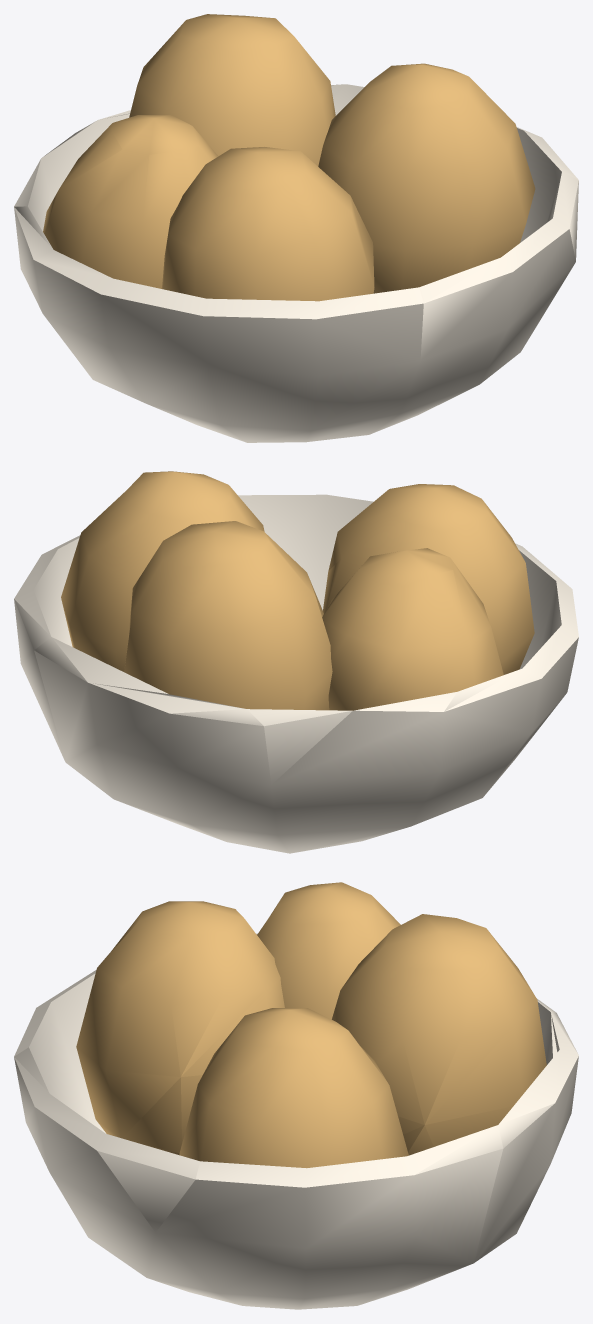
The model's file is kitchen_fruit_bowl.glb.
The picture shows the model from 3 angles, top to bottom: view 1: azimuth 30°, elevation 25°; view 2: azimuth 150°, elevation 25°; view 3: azimuth 270°, elevation 25°; orthographic projection. The views are drawn at different scales.
Size of the model in its own units: 0.45 by 0.2641 by 0.4192.
